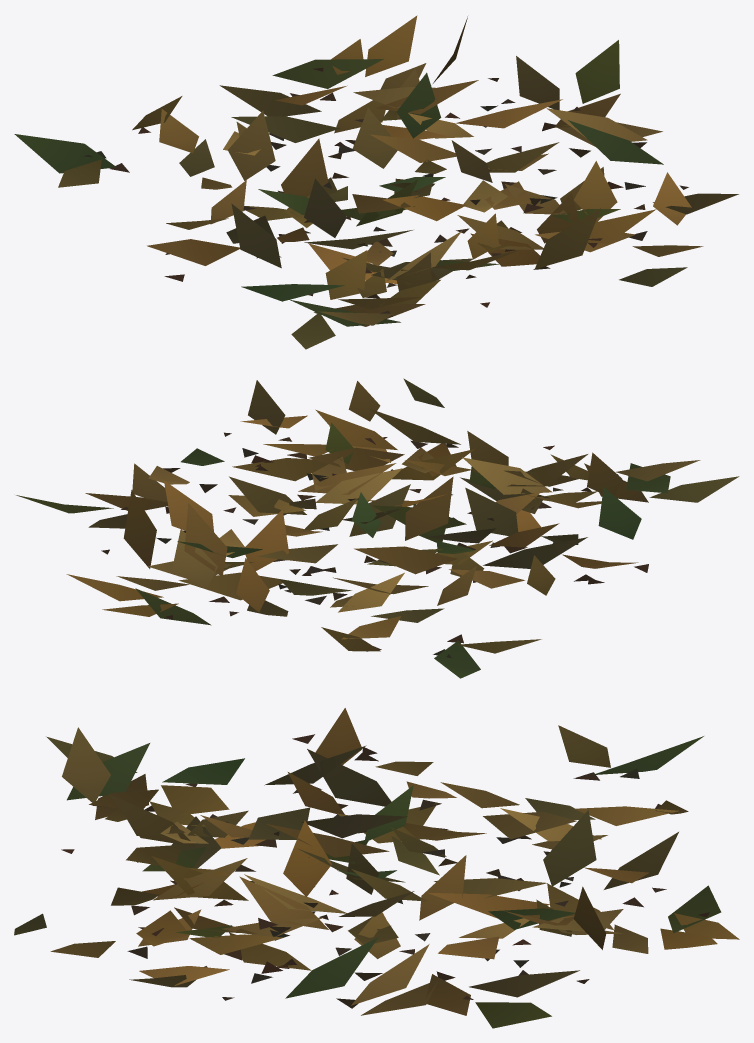
Rendered from litter-tropical-a.lod0.glb.
3 views of the same model, one above another, from view 1: azimuth 30°, elevation 25°; view 2: azimuth 150°, elevation 25°; view 3: azimuth 270°, elevation 25° (orthographic). The views are drawn at different scales.
Bounding box in the file's own units: 1.9 × 0.2816 × 1.87.
